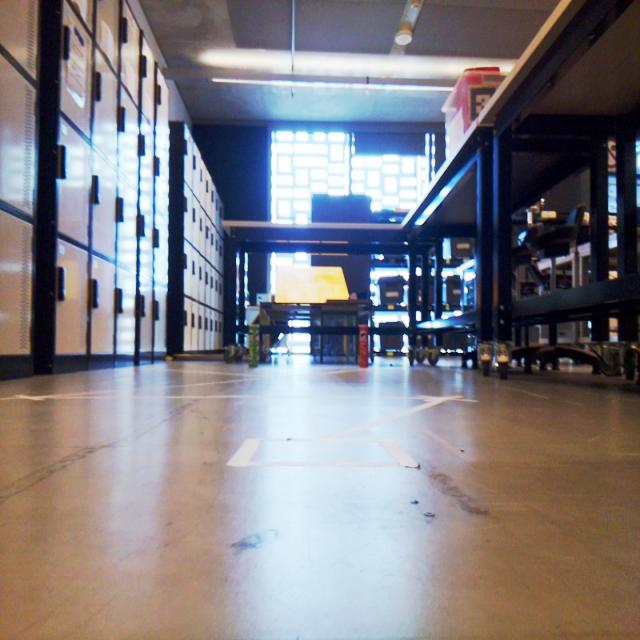greenpringles: (245, 305, 267, 371)
redpringles: (345, 307, 378, 369)
